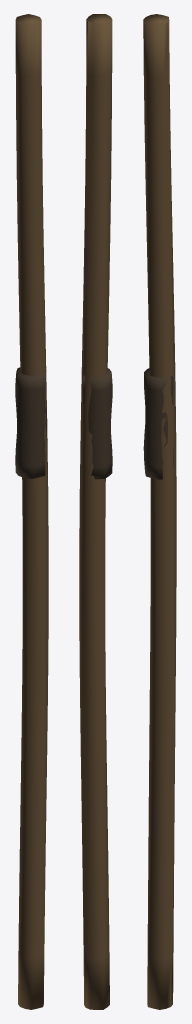
The model's file is C01_ash_staff.glb.
3 views of the same model, side by side, from view 1: azimuth 30°, elevation 25°; view 2: azimuth 210°, elevation 25°; view 3: azimuth 330°, elevation 25° (orthographic).
Visible parts, largest first — view 1: C01_AshStaff; view 2: C01_AshStaff; view 3: C01_AshStaff.
Boxes of the visible parts, left/top/right/bottom form: C01_AshStaff: left=15, top=14, right=48, bottom=1009; C01_AshStaff: left=79, top=14, right=112, bottom=1009; C01_AshStaff: left=143, top=14, right=176, bottom=1009.
Bounding box in the file's own units: 0.0463 × 1.51 × 0.0445.
